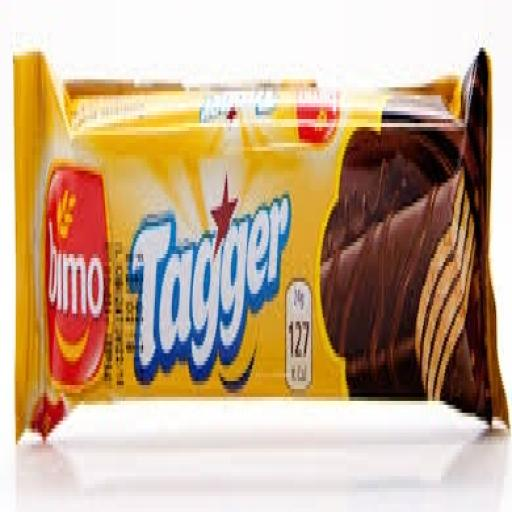tagger: (0, 0, 512, 487)
